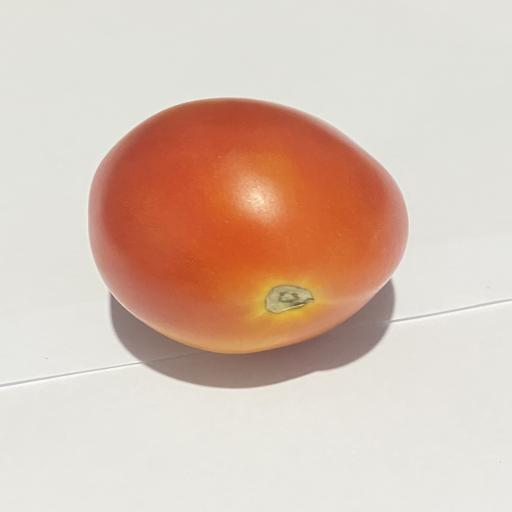ripe: (88, 98, 408, 353)
